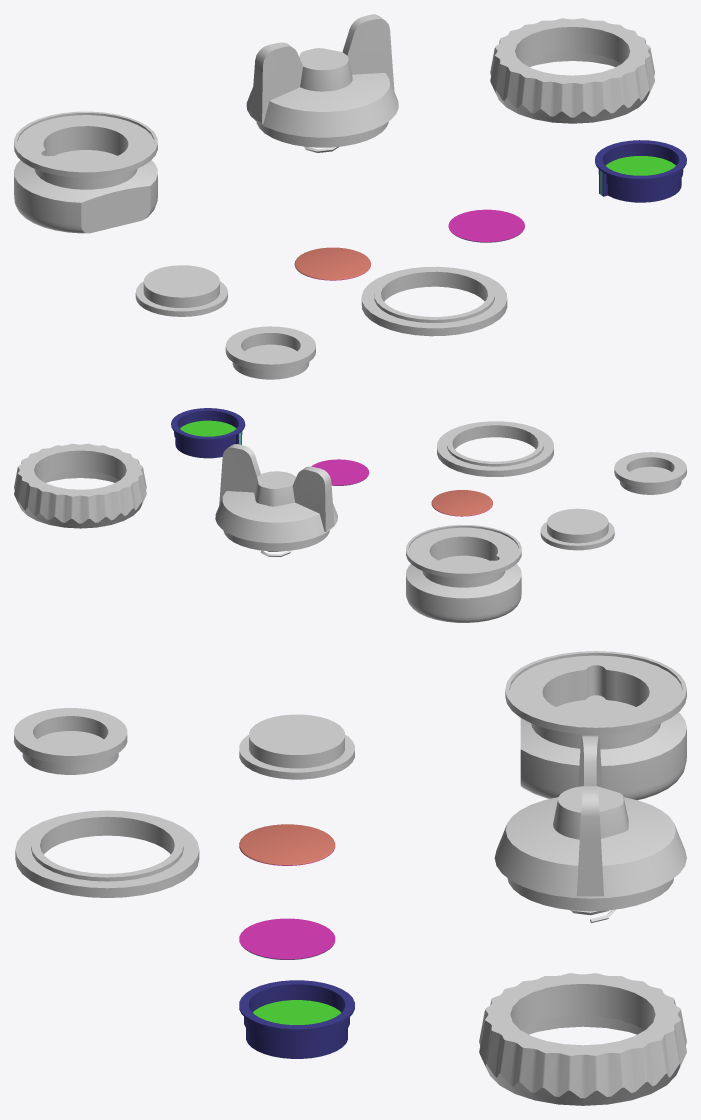
Rendered from pat_cell_v2.fbx.
3 renders of one model, top to bottom at view 1: azimuth 30°, elevation 25°; view 2: azimuth 150°, elevation 25°; view 3: azimuth 270°, elevation 25°, orthographic. The views are drawn at different scales.
Parts seen in each view (by area): view 1: pat_cell_base, pat_cell_brass_top, pat_cell_gear, pat_cell_washer, pat_cell_sleeve, pat_cell_upper_plunger, pat_cell_lower_plunger, pat_cell_negative_upper_cathode, pat_cell_positive_lower_cathode; view 2: pat_cell_base, pat_cell_brass_top, pat_cell_gear, pat_cell_washer, pat_cell_sleeve, pat_cell_upper_plunger, pat_cell_lower_plunger, pat_cell_negative_upper_cathode, pat_cell_positive_lower_cathode; view 3: pat_cell_base, pat_cell_gear, pat_cell_brass_top, pat_cell_washer, pat_cell_sleeve, pat_cell_upper_plunger, pat_cell_lower_plunger, pat_cell_negative_upper_cathode, pat_cell_positive_lower_cathode.
Boxes of the visible parts, bbox=[...] form: pat_cell_base: bbox=[14, 111, 157, 233]; pat_cell_brass_top: bbox=[246, 14, 398, 152]; pat_cell_gear: bbox=[490, 18, 654, 123]; pat_cell_washer: bbox=[361, 266, 507, 336]; pat_cell_sleeve: bbox=[595, 140, 686, 202]; pat_cell_upper_plunger: bbox=[225, 326, 315, 379]; pat_cell_lower_plunger: bbox=[135, 265, 227, 316]; pat_cell_negative_upper_cathode: bbox=[294, 247, 371, 280]; pat_cell_positive_lower_cathode: bbox=[448, 209, 524, 242]; pat_cell_base: bbox=[406, 525, 521, 622]; pat_cell_brass_top: bbox=[215, 444, 337, 556]; pat_cell_gear: bbox=[14, 443, 146, 528]; pat_cell_washer: bbox=[437, 421, 553, 476]; pat_cell_sleeve: bbox=[171, 408, 245, 458]; pat_cell_upper_plunger: bbox=[614, 452, 686, 494]; pat_cell_lower_plunger: bbox=[540, 508, 614, 550]; pat_cell_negative_upper_cathode: bbox=[431, 490, 492, 516]; pat_cell_positive_lower_cathode: bbox=[311, 459, 369, 485]; pat_cell_base: bbox=[505, 651, 686, 800]; pat_cell_gear: bbox=[479, 973, 686, 1105]; pat_cell_brass_top: bbox=[494, 735, 686, 922]; pat_cell_washer: bbox=[15, 810, 199, 897]; pat_cell_sleeve: bbox=[239, 980, 354, 1058]; pat_cell_upper_plunger: bbox=[14, 708, 127, 774]; pat_cell_lower_plunger: bbox=[239, 714, 354, 779]; pat_cell_negative_upper_cathode: bbox=[239, 824, 335, 865]; pat_cell_positive_lower_cathode: bbox=[239, 918, 335, 959].
Size of the model in its own units: 0.4303 by 0.0804 by 0.3234.
